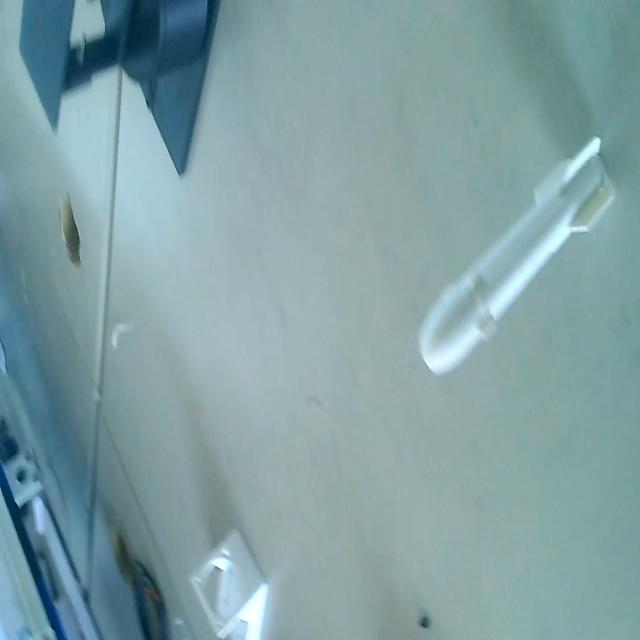Rocket: (413, 130, 619, 373)
